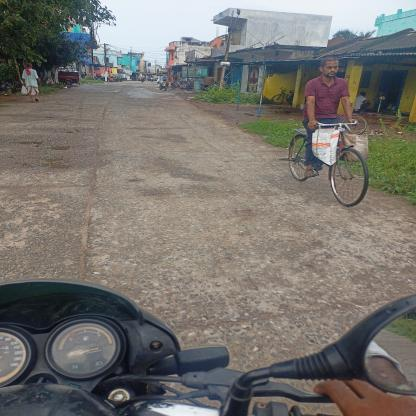bicycle: (272, 109, 383, 213)
